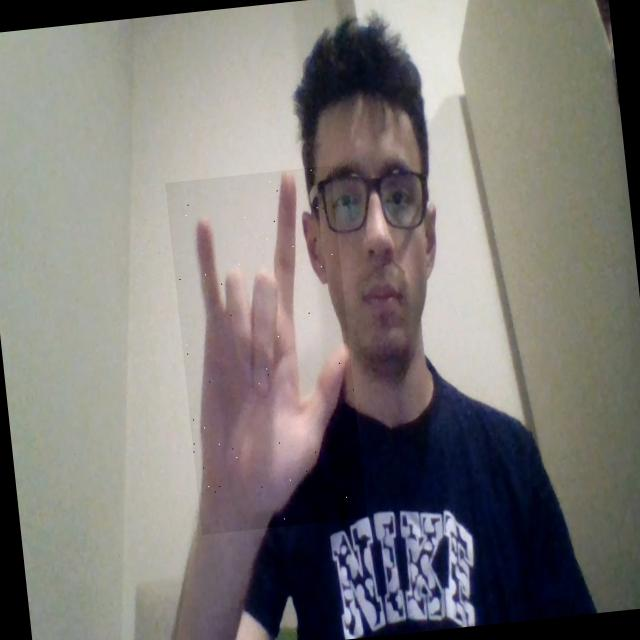iloveyou: (165, 166, 367, 534)
